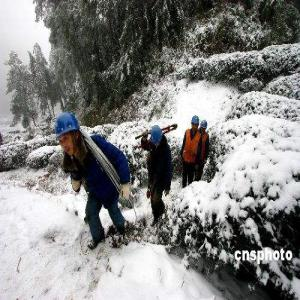blue: (55, 111, 84, 159), (151, 127, 163, 151), (191, 116, 201, 135), (200, 120, 209, 134)
